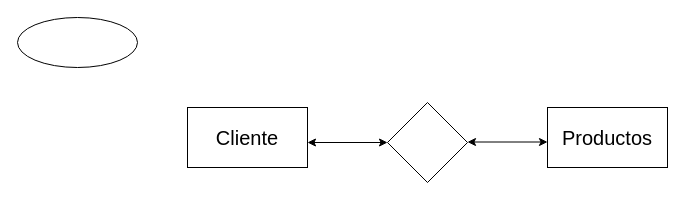
Some shapes in this 685 by 200 pixel diagram are drawn without their labels. The shapes that lost their labels are listed below. From the top down, each one's centre as x and y in pixels, then its label:
At (77,42): "Id_cliente".
At (427,142): "comprar".
